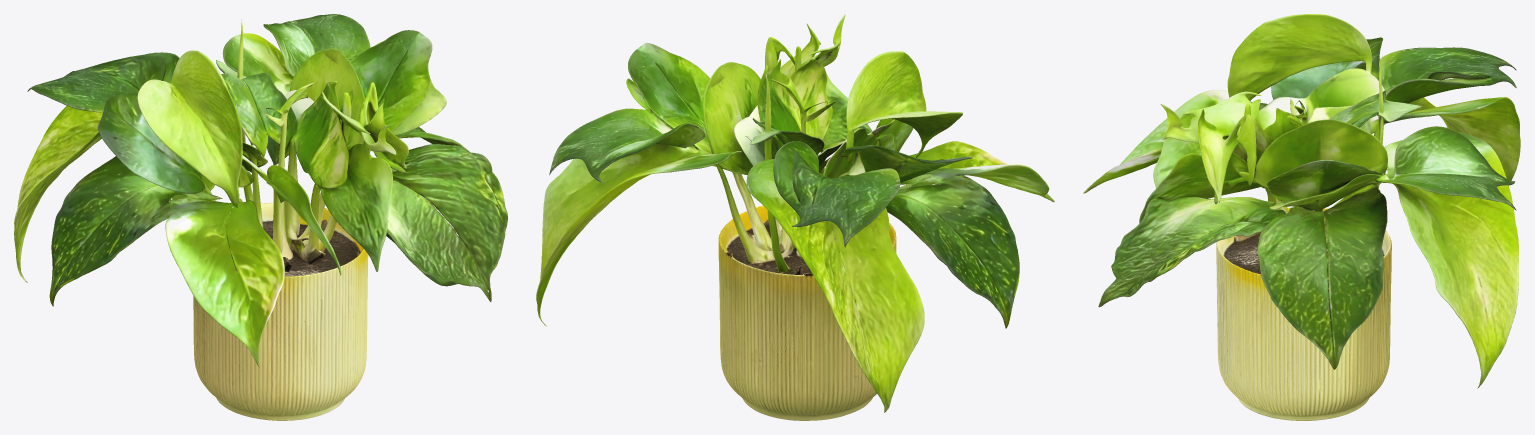
The model's file is plant.glb.
3 views of the same model, side by side, from view 1: azimuth 30°, elevation 25°; view 2: azimuth 150°, elevation 25°; view 3: azimuth 270°, elevation 25° (orthographic). The views are drawn at different scales.
Visible parts, largest first — view 1: model; view 2: model; view 3: model.
Part boxes in pixels (x1=…): model: x1=14, y1=14, x2=507, y2=420; model: x1=536, y1=14, x2=1054, y2=420; model: x1=1083, y1=14, x2=1520, y2=420.
Bounding box in the file's own units: 1.89 × 1.5 × 1.71.
Materials: 1 (1 with a texture image).
